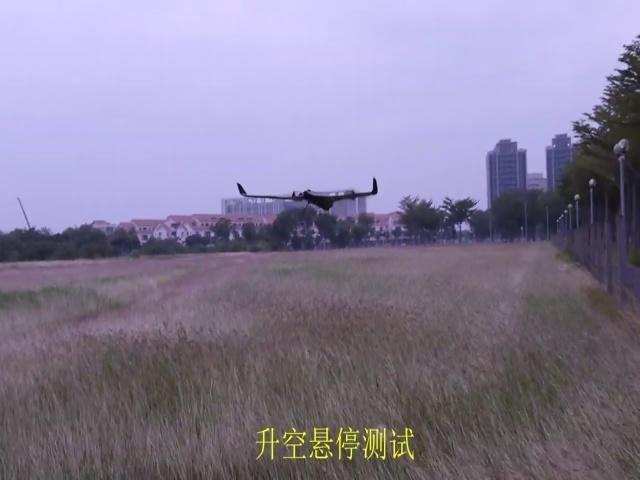Airplane: (236, 176, 378, 212)
